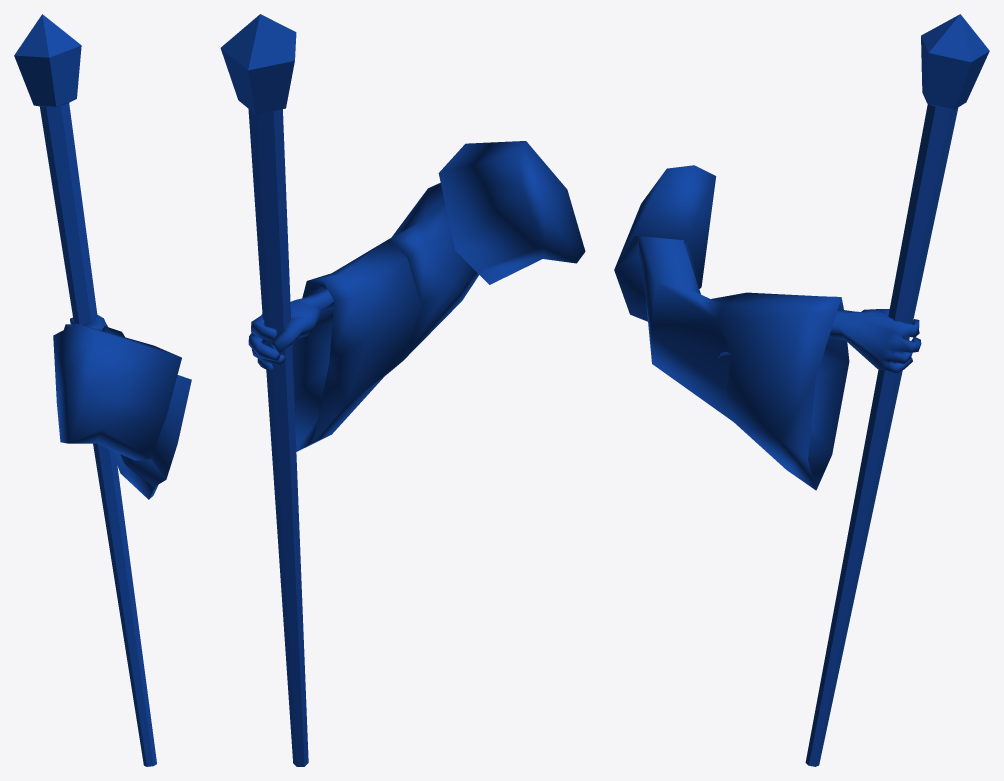
The model's file is arm_000042.obj.
3 views of the same model, side by side, from view 1: azimuth 30°, elevation 25°; view 2: azimuth 150°, elevation 25°; view 3: azimuth 270°, elevation 25° (orthographic). The views are drawn at different scales.
Visible parts, largest first — view 1: Wizard.002_Plane.002; view 2: Wizard.002_Plane.002; view 3: Wizard.002_Plane.002.
Boxes of the visible parts, <box> form: Wizard.002_Plane.002: <box>14,14,191,766</box>; Wizard.002_Plane.002: <box>220,14,585,766</box>; Wizard.002_Plane.002: <box>614,14,989,766</box>.
Bounding box in the file's own units: 0.4656 × 1.73 × 0.8044.
